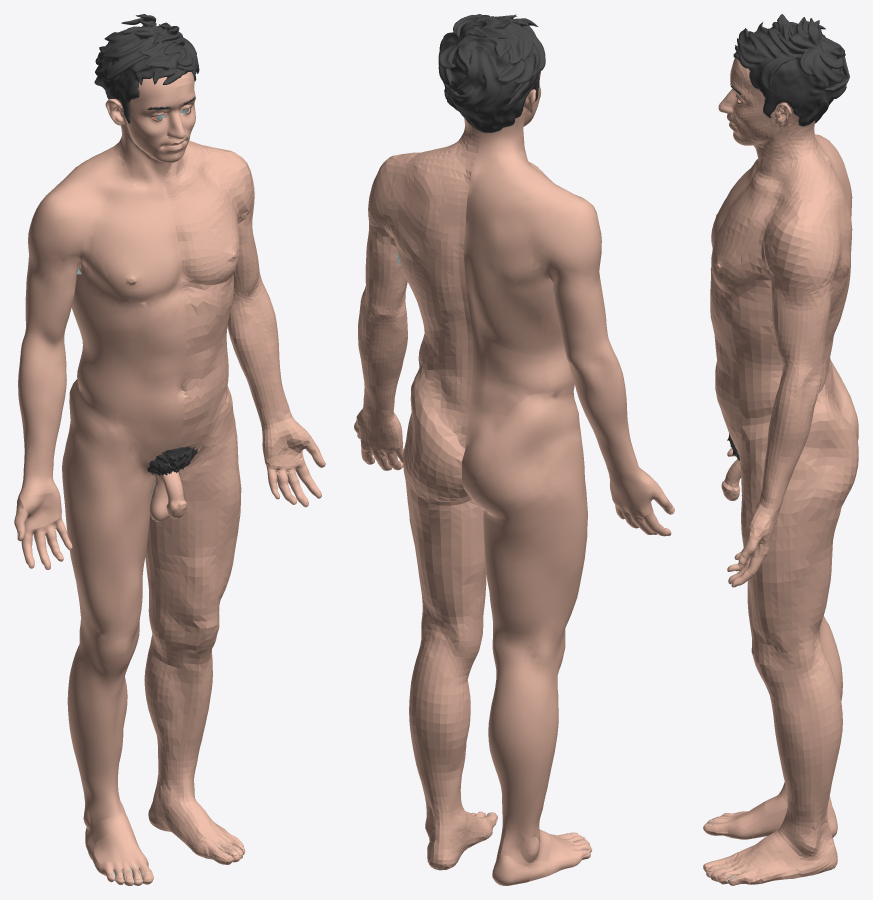
The model's file is integumentary.glb.
The picture shows the model from 3 angles, left to right: view 1: azimuth 30°, elevation 25°; view 2: azimuth 150°, elevation 25°; view 3: azimuth 270°, elevation 25°; orthographic projection. The views are drawn at different scales.
Visible parts, largest first — view 1: Anterior_region_of_thigh_Right, Anterior_region_of_thigh_Left, Hairs_of_head, Anterior_region_of_leg_Left, Anterior_region_of_leg_Right, Pectoral_region_Right, Deltoid_region_Right, Anterior_region_of_forearm_Left, Anterior_region_of_forearm_Right, Lateral_region_of_thorax_Right, Lateral_region_of_abdomen_Right, Pectoral_region_Left (+46 smaller); view 2: Posterior_region_of_thigh_Right, Hairs_of_head, Gluteal_region_Right, Posterior_region_of_thigh_Left, Posterior_region_of_leg_Right, Posterior_region_of_leg_Left, Gluteal_region_Left, Scapular_region_Right, Posterior_region_of_arm_Right, Infrascapular_region_Right, Scapular_region_Left, Posterior_region_of_forearm_Right (+32 smaller); view 3: Hairs_of_head, Anterior_region_of_thigh_Left, Posterior_region_of_thigh_Left, Deltoid_region_Left, Gluteal_region_Left, Posterior_region_of_leg_Left, Lateral_region_of_thorax_Left, Anterior_region_of_leg_Left, Lateral_region_of_abdomen_Left, Pectoral_region_Left, Posterior_region_of_arm_Left, Posterior_region_of_neck_Left (+45 smaller).
Boxes of the visible parts, left/top/right/bottom form: Anterior_region_of_thigh_Right: left=69, top=382, right=154, bottom=636; Anterior_region_of_thigh_Left: left=150, top=383, right=241, bottom=615; Hairs_of_head: left=94, top=14, right=199, bottom=123; Anterior_region_of_leg_Left: left=153, top=654, right=212, bottom=780; Anterior_region_of_leg_Right: left=74, top=674, right=127, bottom=799; Pectoral_region_Right: left=94, top=205, right=174, bottom=302; Deltoid_region_Right: left=28, top=174, right=90, bottom=271; Anterior_region_of_forearm_Left: left=228, top=304, right=292, bottom=425; Anterior_region_of_forearm_Right: left=22, top=360, right=66, bottom=481; Lateral_region_of_thorax_Right: left=71, top=225, right=147, bottom=333; Lateral_region_of_abdomen_Right: left=77, top=342, right=147, bottom=422; Pectoral_region_Left: left=183, top=179, right=238, bottom=284; Posterior_region_of_thigh_Right: left=483, top=496, right=579, bottom=640; Hairs_of_head: left=438, top=14, right=545, bottom=133; Gluteal_region_Right: left=462, top=392, right=567, bottom=518; Posterior_region_of_thigh_Left: left=404, top=472, right=485, bottom=624; Posterior_region_of_leg_Right: left=488, top=688, right=555, bottom=830; Posterior_region_of_leg_Left: left=409, top=667, right=468, bottom=813; Gluteal_region_Left: left=403, top=360, right=470, bottom=501; Scapular_region_Right: left=486, top=191, right=559, bottom=287; Posterior_region_of_arm_Right: left=543, top=242, right=606, bottom=348; Infrascapular_region_Right: left=475, top=273, right=545, bottom=354; Scapular_region_Left: left=379, top=164, right=436, bottom=266; Posterior_region_of_forearm_Right: left=570, top=368, right=640, bottom=475; Hairs_of_head: left=733, top=14, right=849, bottom=126; Anterior_region_of_thigh_Left: left=738, top=407, right=787, bottom=646; Posterior_region_of_thigh_Left: left=783, top=506, right=841, bottom=645; Deltoid_region_Left: left=763, top=197, right=834, bottom=297; Gluteal_region_Left: left=798, top=395, right=858, bottom=509; Posterior_region_of_leg_Left: left=798, top=679, right=842, bottom=822; Lateral_region_of_thorax_Left: left=715, top=229, right=846, bottom=343; Anterior_region_of_leg_Left: left=770, top=696, right=806, bottom=822; Lateral_region_of_abdomen_Left: left=723, top=347, right=782, bottom=414; Pectoral_region_Left: left=711, top=197, right=769, bottom=291; Posterior_region_of_arm_Left: left=799, top=248, right=839, bottom=364; Posterior_region_of_neck_Left: left=784, top=120, right=834, bottom=199.
Bounding box in the file's own units: 68.01 × 174 × 29.4.
